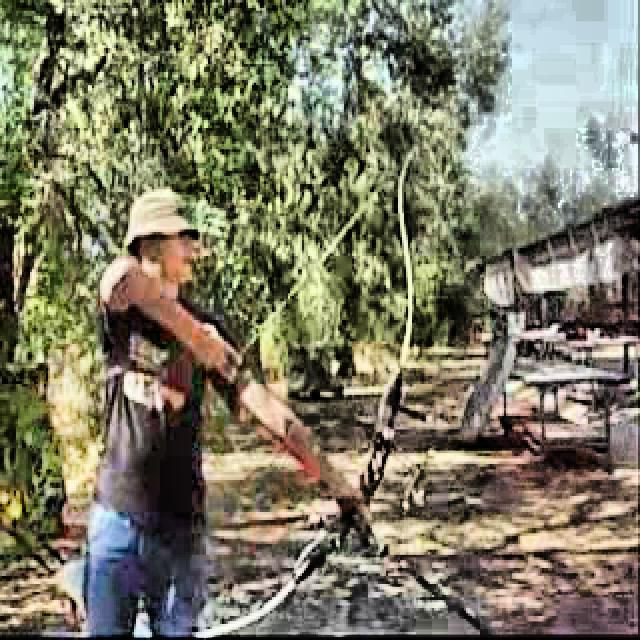I: (66, 172, 361, 640)
